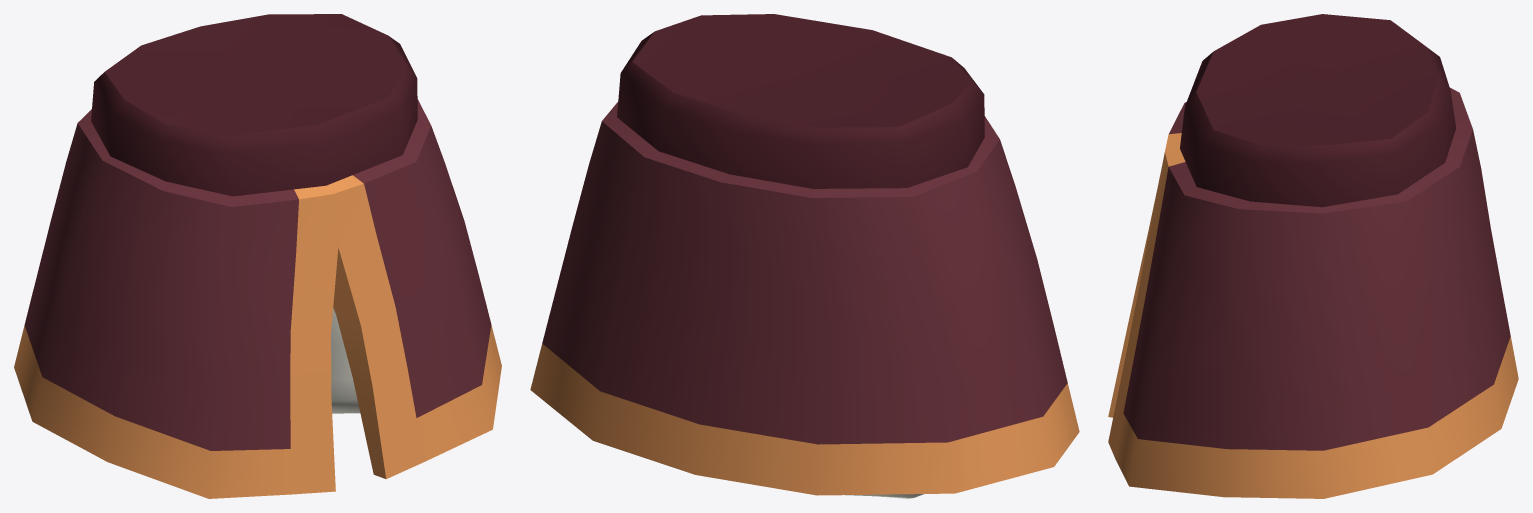
Rendered from Bottom_44.fbx.
3 renders of one model, left to right at view 1: azimuth 30°, elevation 25°; view 2: azimuth 150°, elevation 25°; view 3: azimuth 270°, elevation 25°, orthographic. The views are drawn at different scales.
Visible parts, largest first — view 1: Bottom_44; view 2: Bottom_44; view 3: Bottom_44.
Part boxes in pixels (box(x1,y1,x2,y2)): Bottom_44: box(14, 14, 501, 498); Bottom_44: box(530, 14, 1079, 498); Bottom_44: box(1108, 14, 1518, 498).
Bounding box in the file's own units: 58.3 × 43.07 × 45.26.
